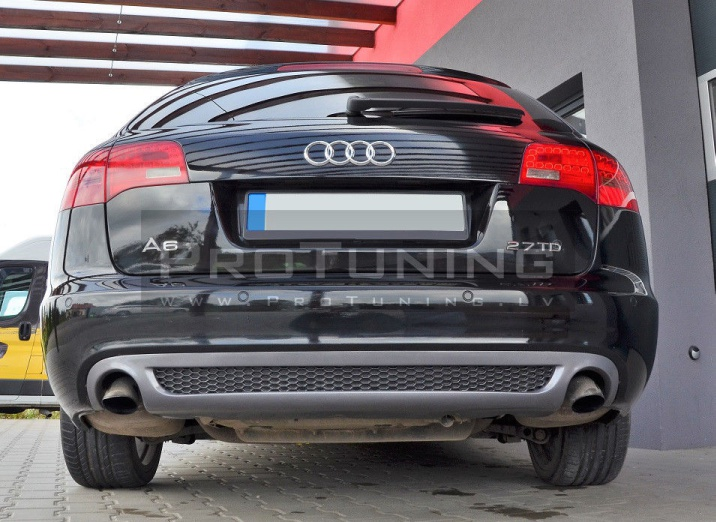audi: (295, 134, 401, 174)
